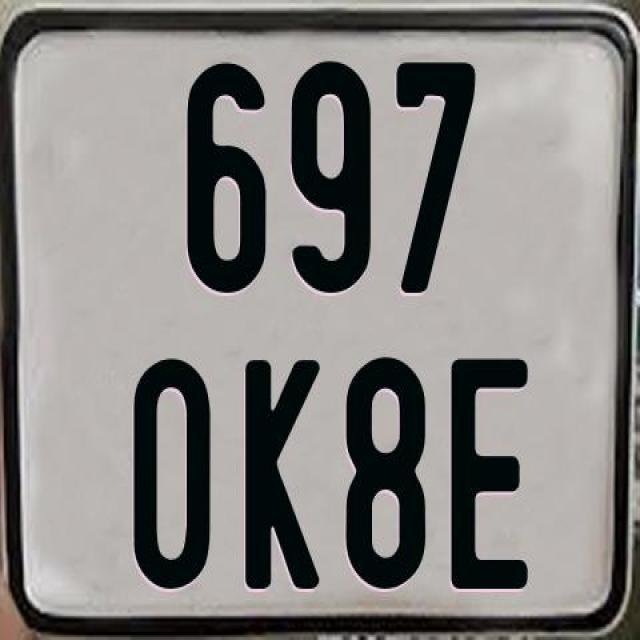0: (129, 353, 215, 592)
6: (184, 61, 268, 301)
7: (396, 59, 476, 299)
8: (341, 355, 424, 595)
9: (286, 58, 366, 292)
E: (446, 354, 530, 590)
K: (242, 356, 324, 594)
